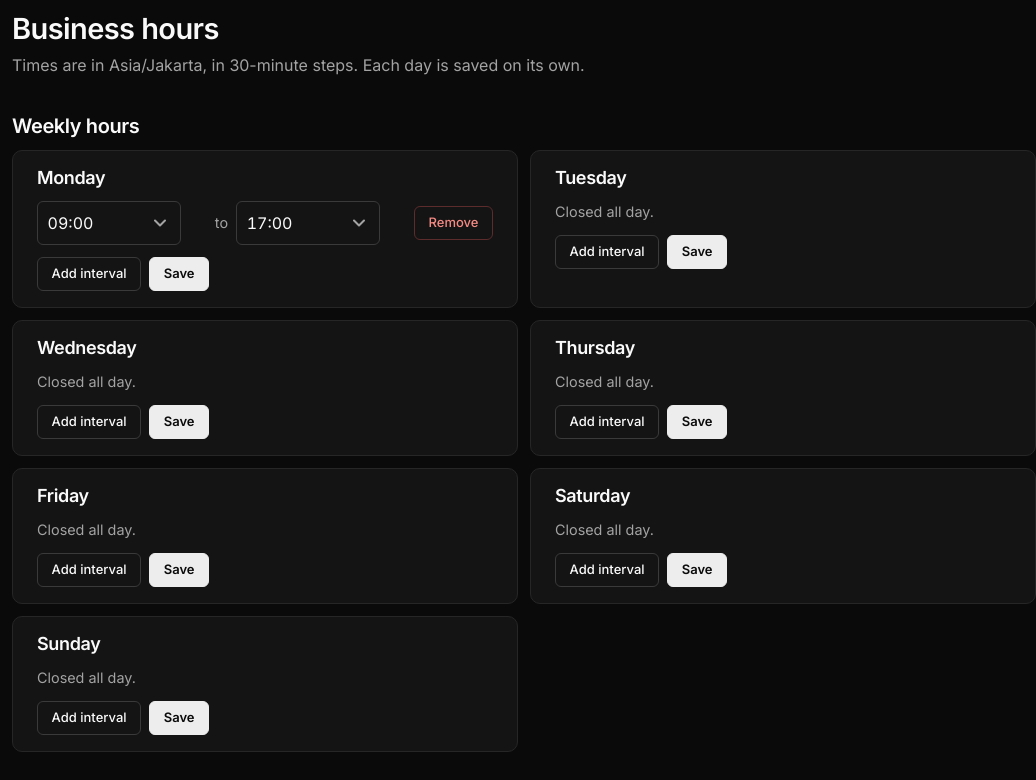
Test: BusinessHoursPage › shows a server 409 inside the day that failed
The image size is (1036, 780).
Click the button named "Remove Monday interval 1" at (453, 223), box [414,206,493,240]
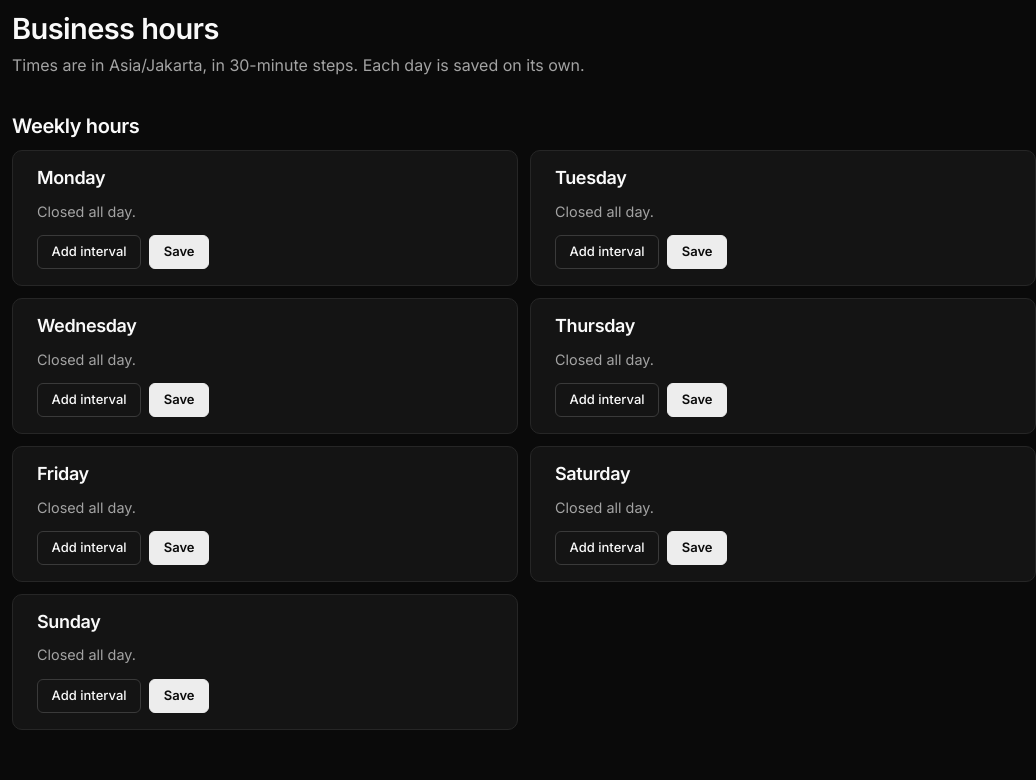
Click the button named "Save Monday hours" at (179, 252), box [149,235,209,269]
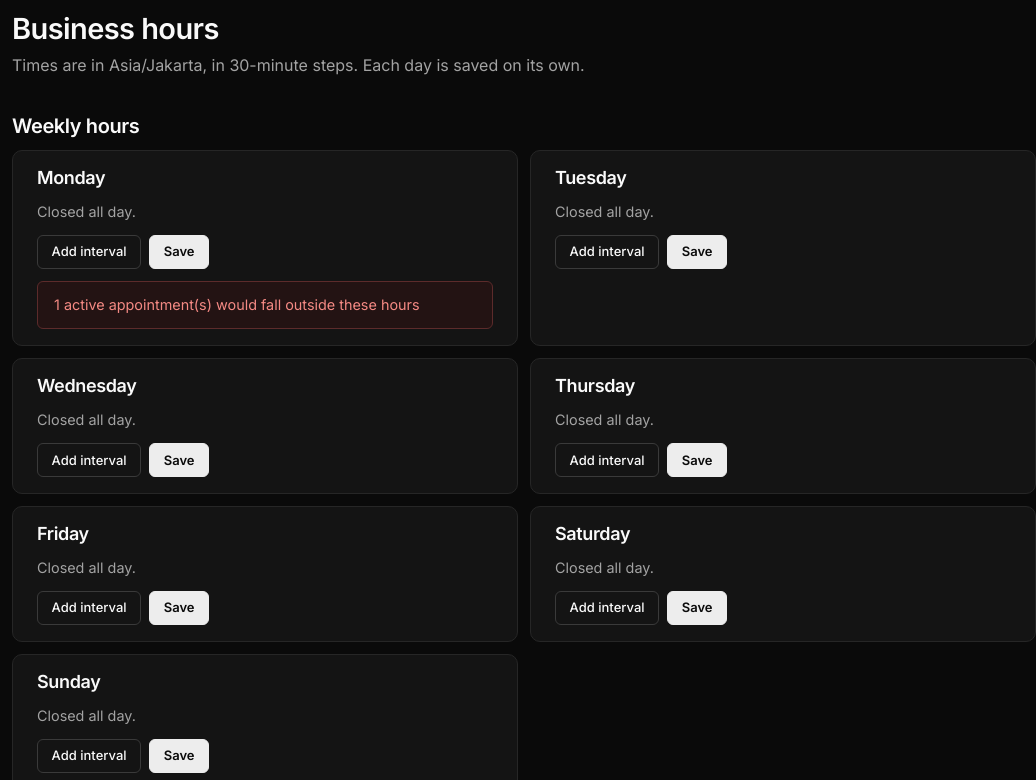
Result: the message shows "active appointment(s)" at [54,296,420,313]
Result: the number of messages is 1 at [37,281,493,329]
